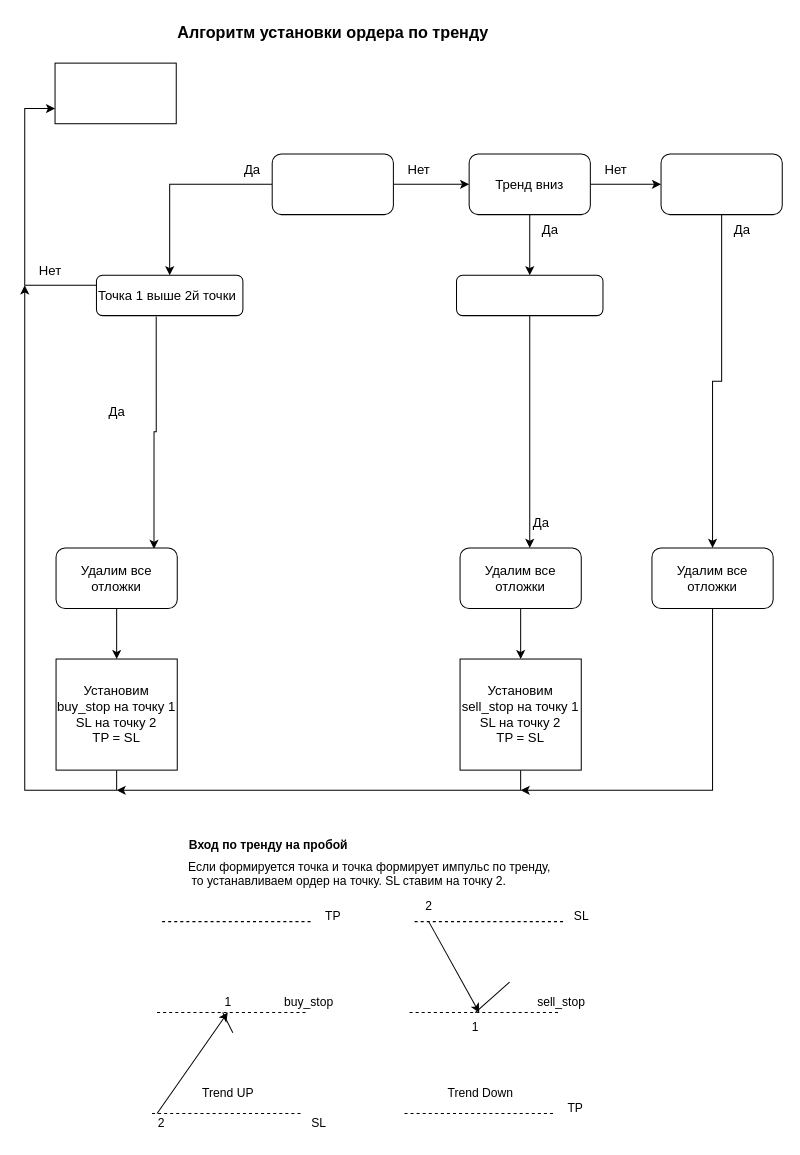
Some shapes in this 800 by 1155 pixel diagram are drawn without their labels. The centre of each missing label's shape, as x and y in pixels:
Выход: point 115,93
Точка 1 ниже 2й точки: point 529,295
Тренд вверх: point 332,184
Флэт: point 721,184
